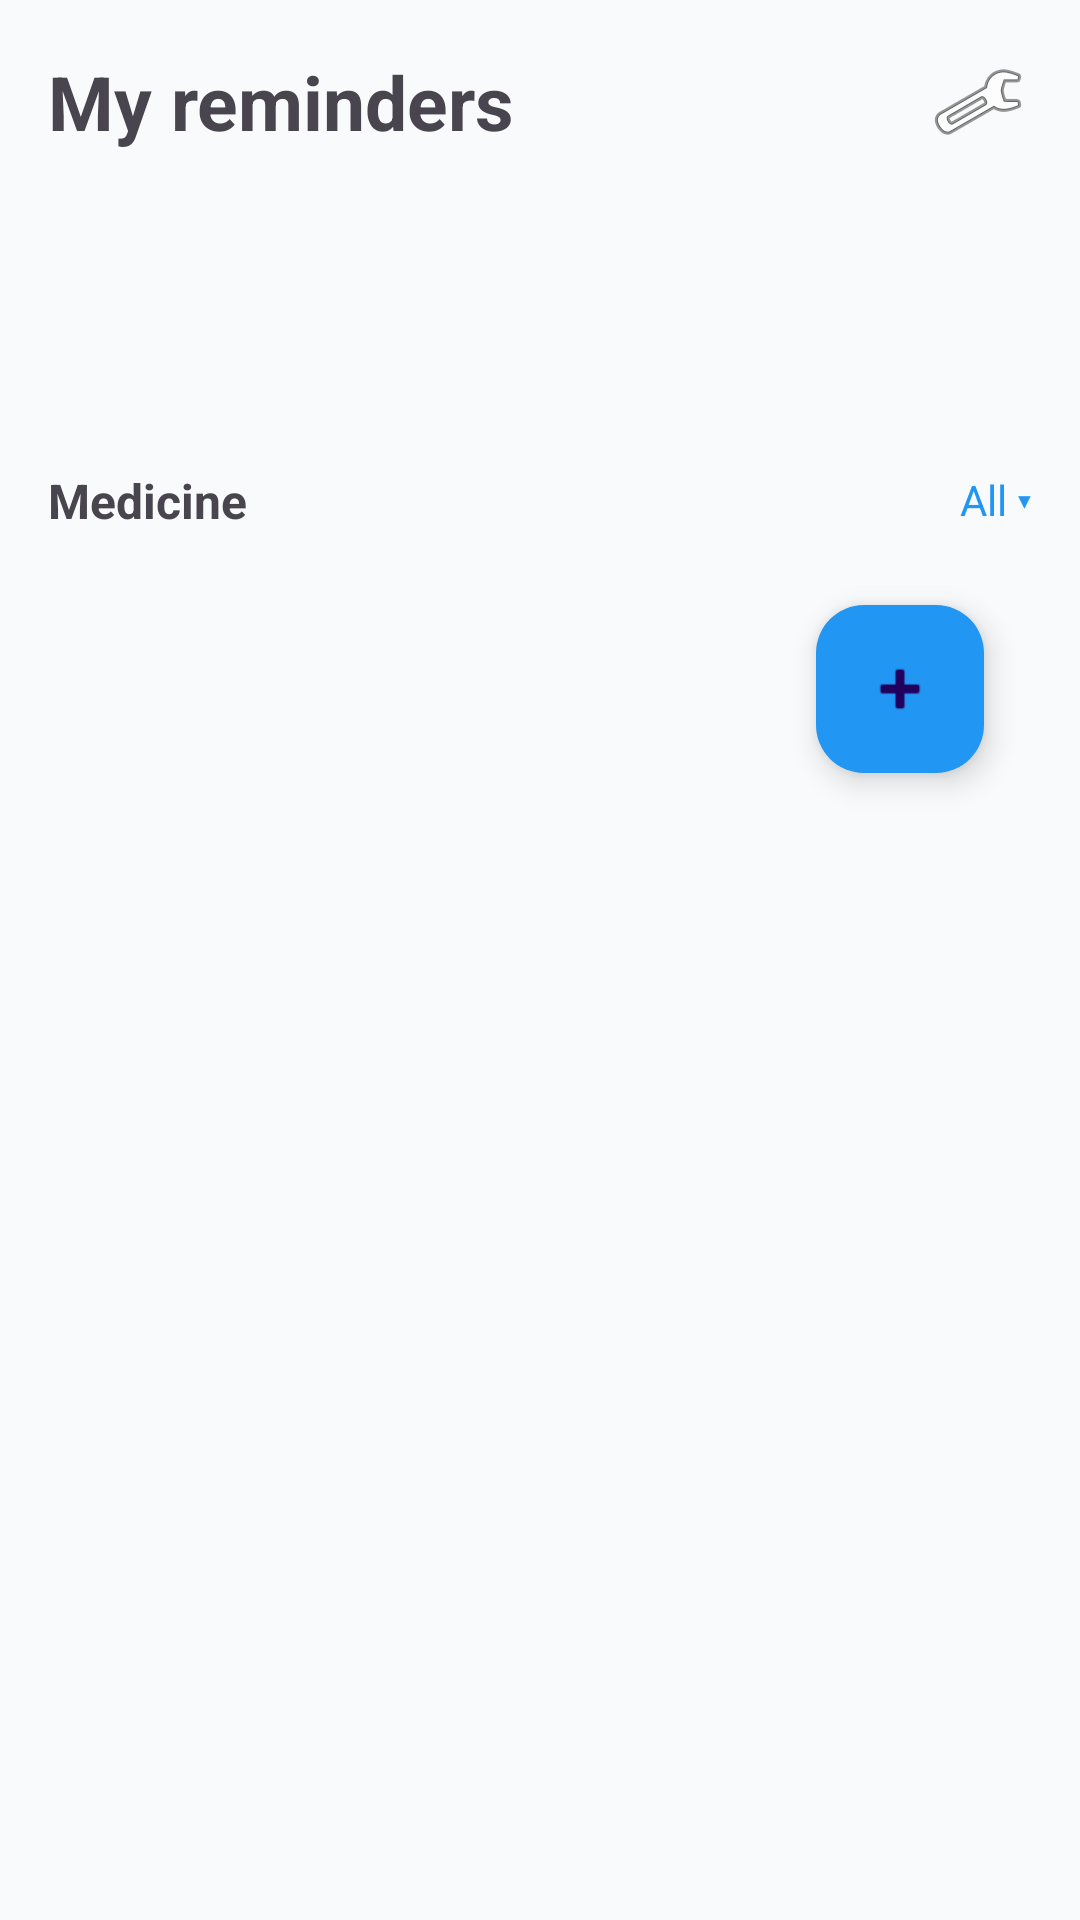

Screen size 1080w x 1920h. Icon name, then its center in pixels as (x,y):
add: (900,689)
manage: (978,102)
